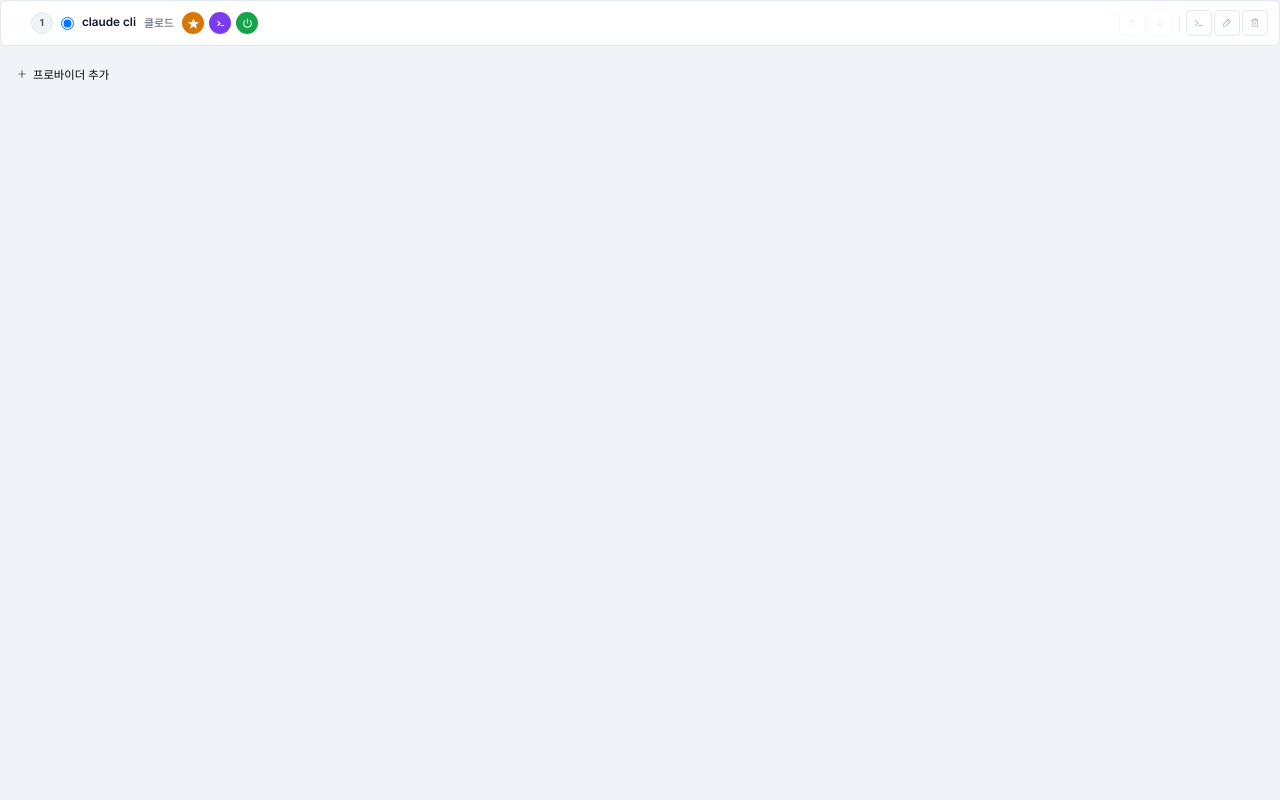
Test: the three AiProvider dialogs as they render › returns focus to the row button that opened common.edit
This screenshot has width=1280, height=800.
Click the button named "수정". click: coordinates (1227, 23)
box: left=1214, top=10, right=1240, bottom=36
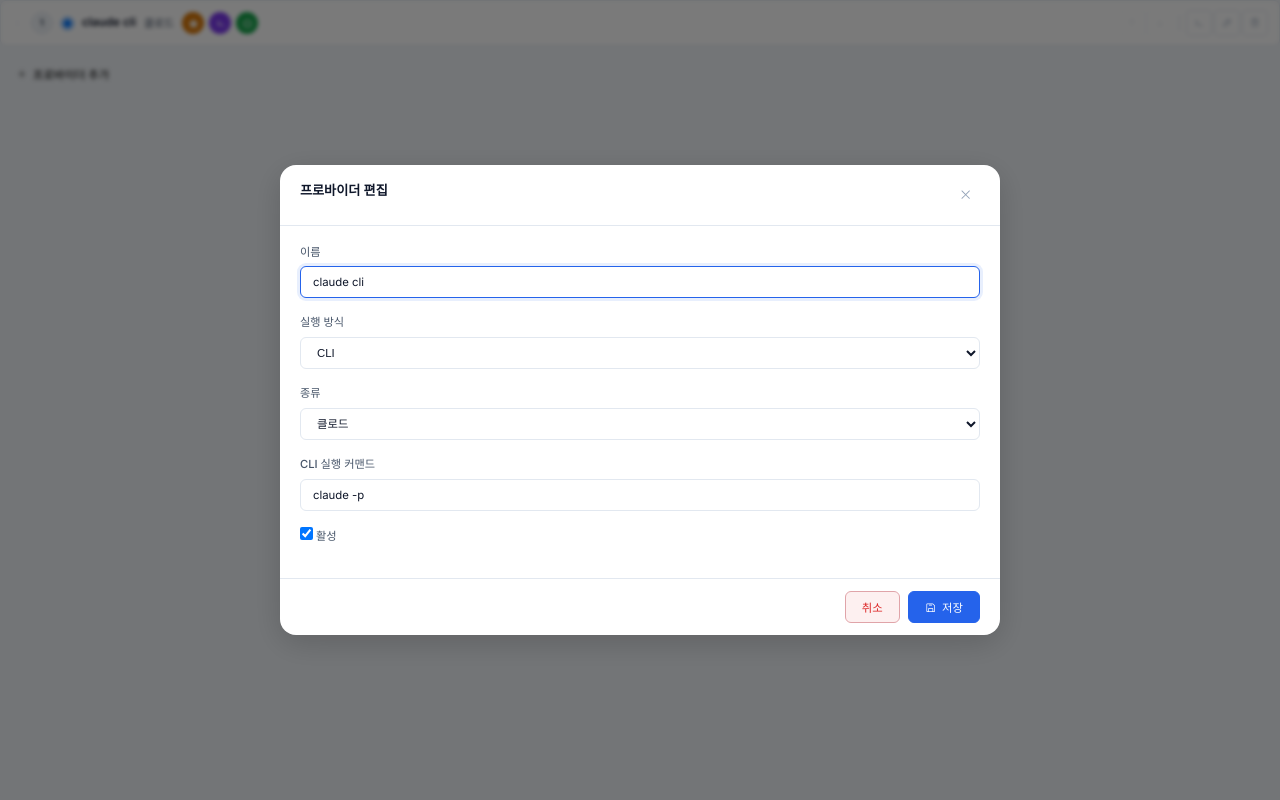
Result: the dialog with class "fg-dialog-surface" is shown at left=280, top=164, right=1000, bottom=636
Click the button "취소". click: coordinates (872, 608)
box: left=845, top=592, right=900, bottom=624
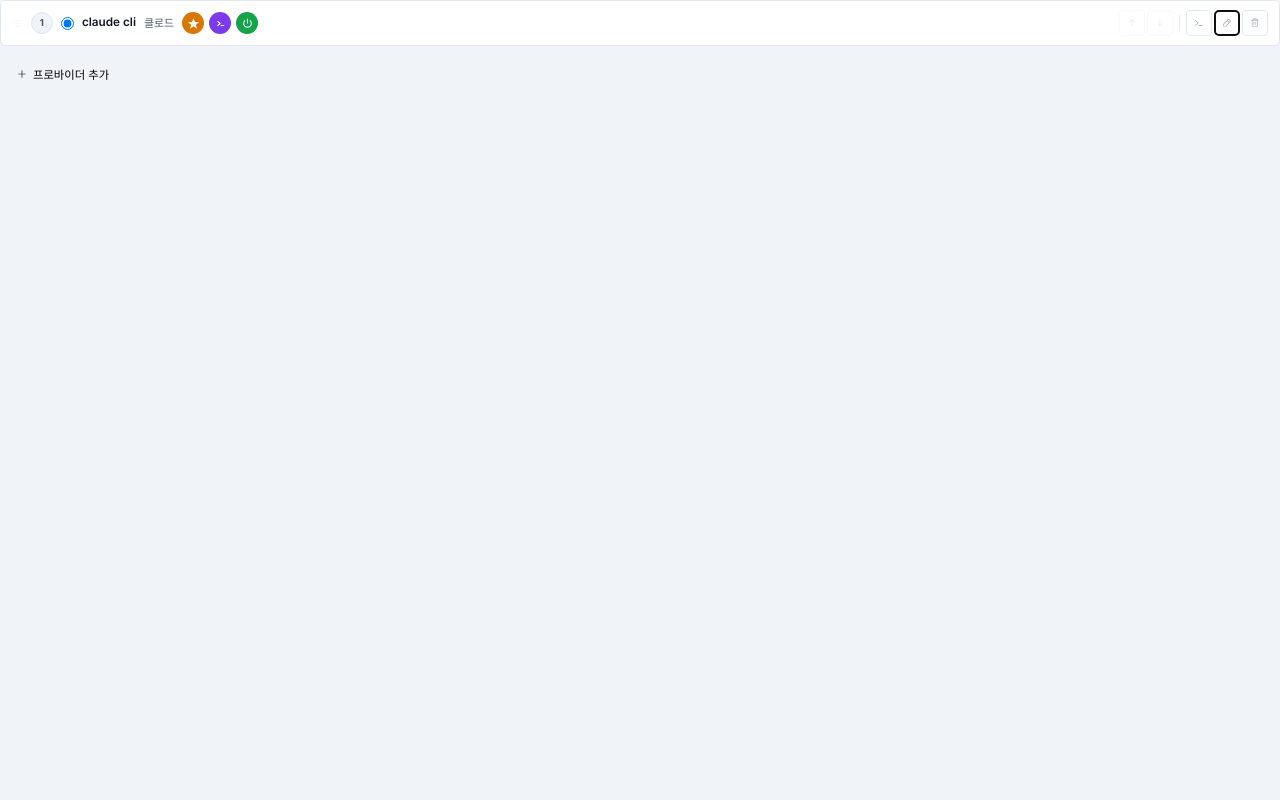
Result: the dialog with class "fg-dialog-surface" is gone
